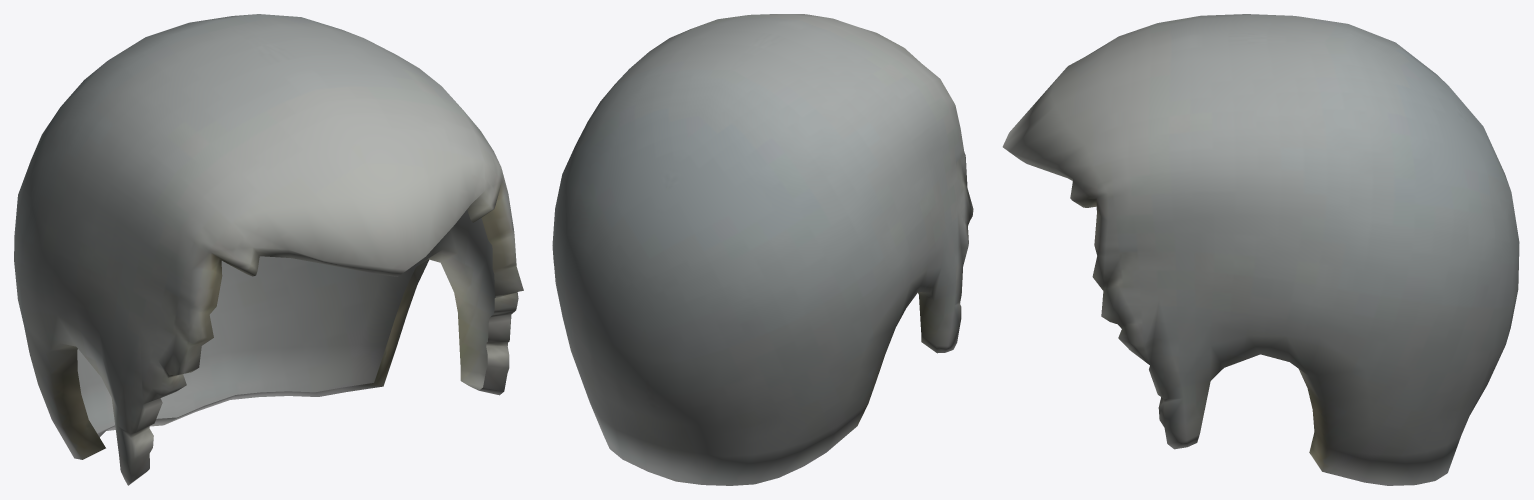
Rendered from hair-buzzed.glb.
3 views of the same model, side by side, from view 1: azimuth 30°, elevation 25°; view 2: azimuth 150°, elevation 25°; view 3: azimuth 270°, elevation 25° (orthographic). The views are drawn at different scales.
Parts seen in each view (by area): view 1: Hair_Buzzed; view 2: Hair_Buzzed; view 3: Hair_Buzzed.
Boxes of the visible parts, <box> form: Hair_Buzzed: <box>14,14,523,485</box>; Hair_Buzzed: <box>552,14,973,485</box>; Hair_Buzzed: <box>1002,14,1519,485</box>.
Size of the model in its own units: 0.1546 by 0.1694 by 0.1909.
Materials: 1 (1 with a texture image).
